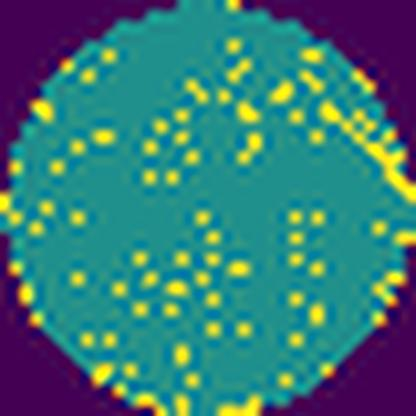Scratch: (318, 96, 416, 206)
